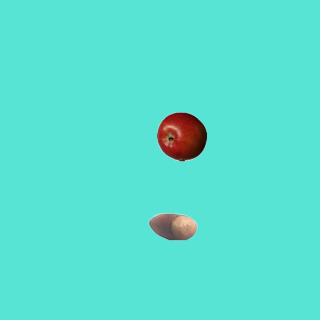Apple Braeburn: (156, 111, 206, 161)
Hazelnut: (147, 201, 197, 251)
